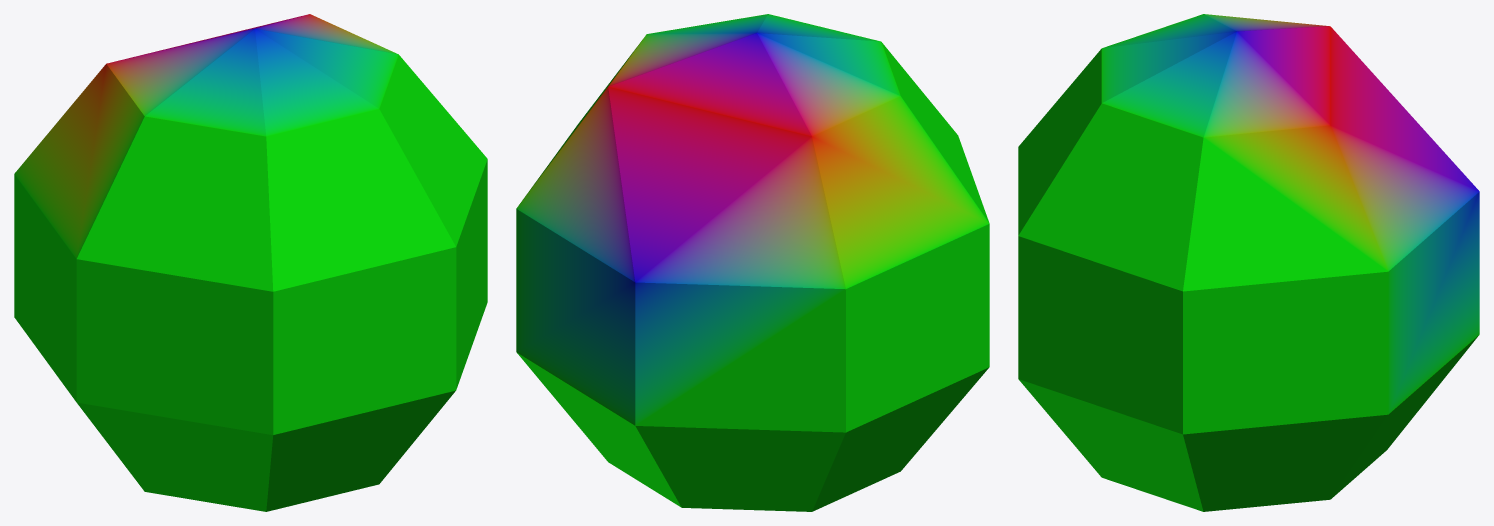
File: after_retriangulation_type_colored_0.obj
3 renders of one model, left to right at view 1: azimuth 30°, elevation 25°; view 2: azimuth 150°, elevation 25°; view 3: azimuth 270°, elevation 25°, orthographic.
Size of the model in its own units: 1.85 by 2 by 1.81.
